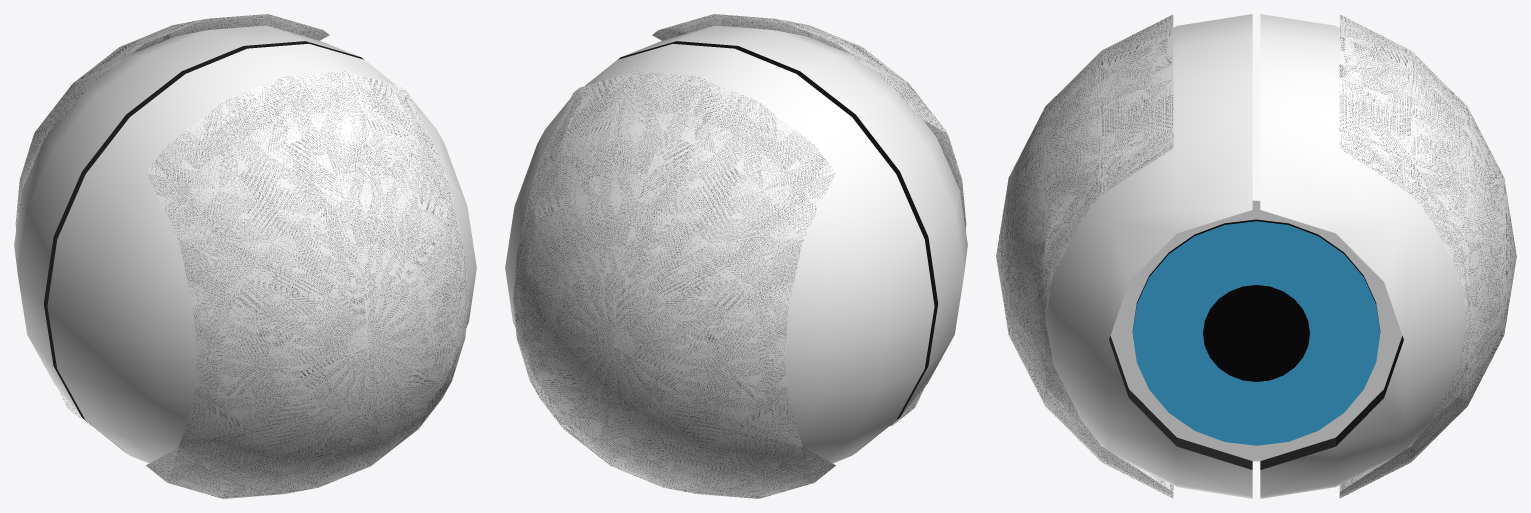
File: service.dae
3 views of the same model, side by side, from view 1: azimuth 30°, elevation 25°; view 2: azimuth 150°, elevation 25°; view 3: azimuth 270°, elevation 25° (orthographic). The views are drawn at different scales.
Parts seen in each view (by area): view 1: SimpleDome02_1 (×2), SimpleDome02 (×3); view 2: SimpleDome02_1 (×2), SimpleDome02 (×3); view 3: SimpleDome02 (×4), SimpleDome02_1 (×2), group_1 (×3), group_0.
Boxes of the visible parts, x1,y1,x2,y2 form: SimpleDome02_1 (×2): [15, 14, 468, 498]; SimpleDome02 (×3): [14, 25, 476, 463]; SimpleDome02_1 (×2): [513, 14, 966, 498]; SimpleDome02 (×3): [505, 25, 967, 463]; SimpleDome02 (×4): [1045, 14, 1467, 498]; SimpleDome02_1 (×2): [996, 14, 1516, 498]; group_1 (×3): [1132, 219, 1380, 445]; group_0: [1110, 200, 1402, 461].
Bounding box in the file's own units: 114 × 134 × 126.
